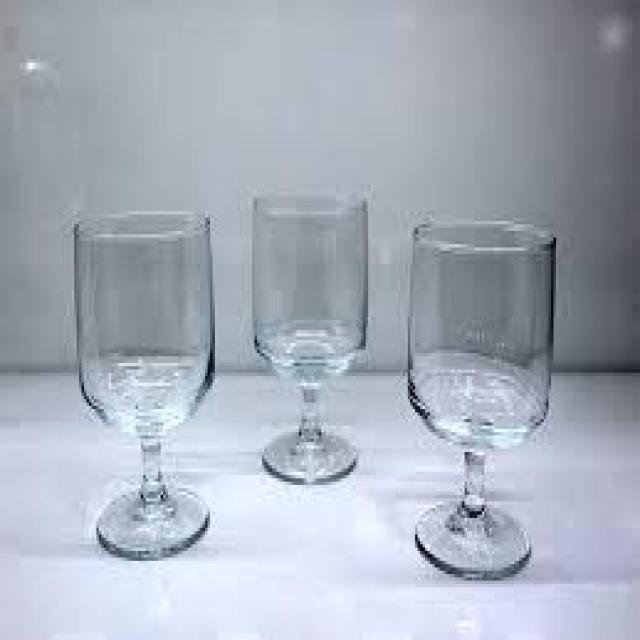non-organic waste: (70, 210, 216, 559)
